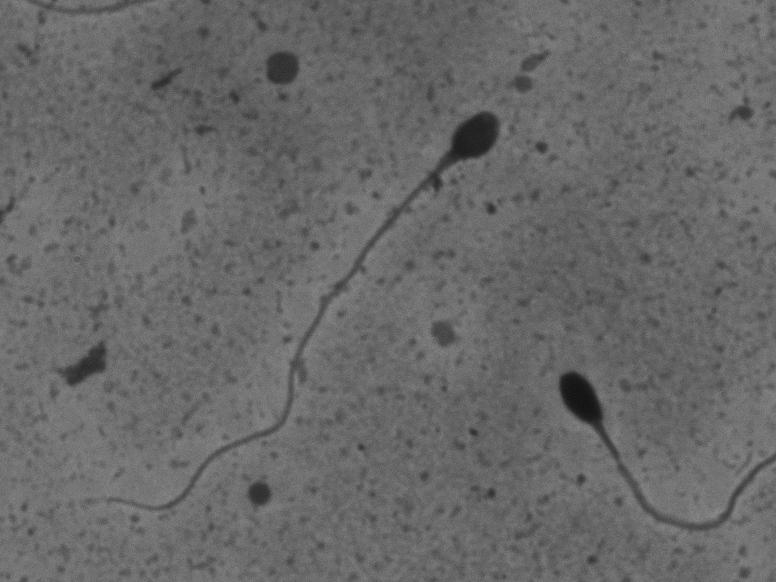Normal: (69, 87, 504, 528), (534, 326, 762, 552)
